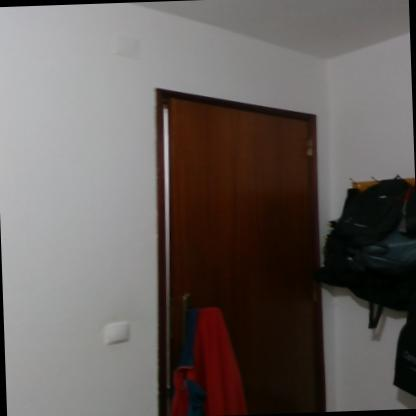closed: (140, 76, 346, 411)
